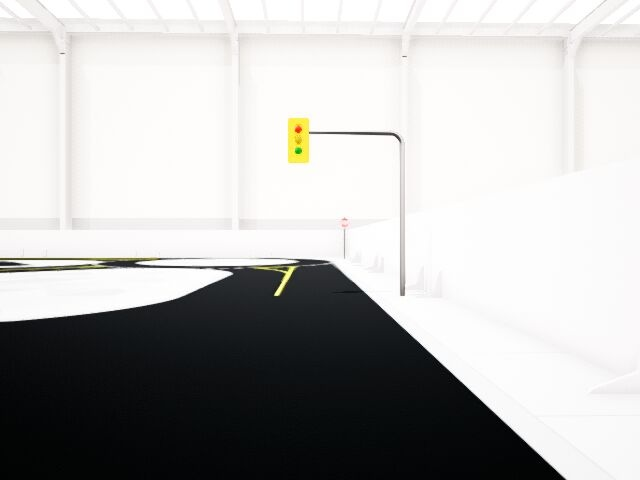red: (289, 118, 309, 163)
stopsign: (339, 216, 350, 228)
